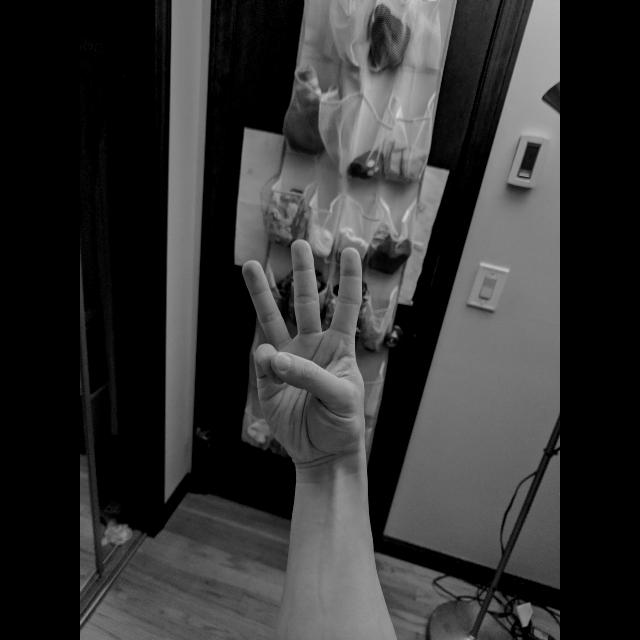W: (240, 235, 372, 465)
